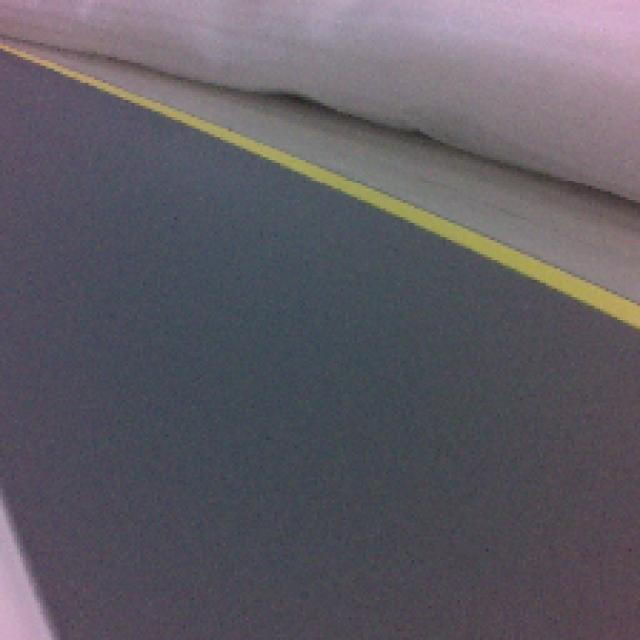Road: (0, 263, 640, 640)
